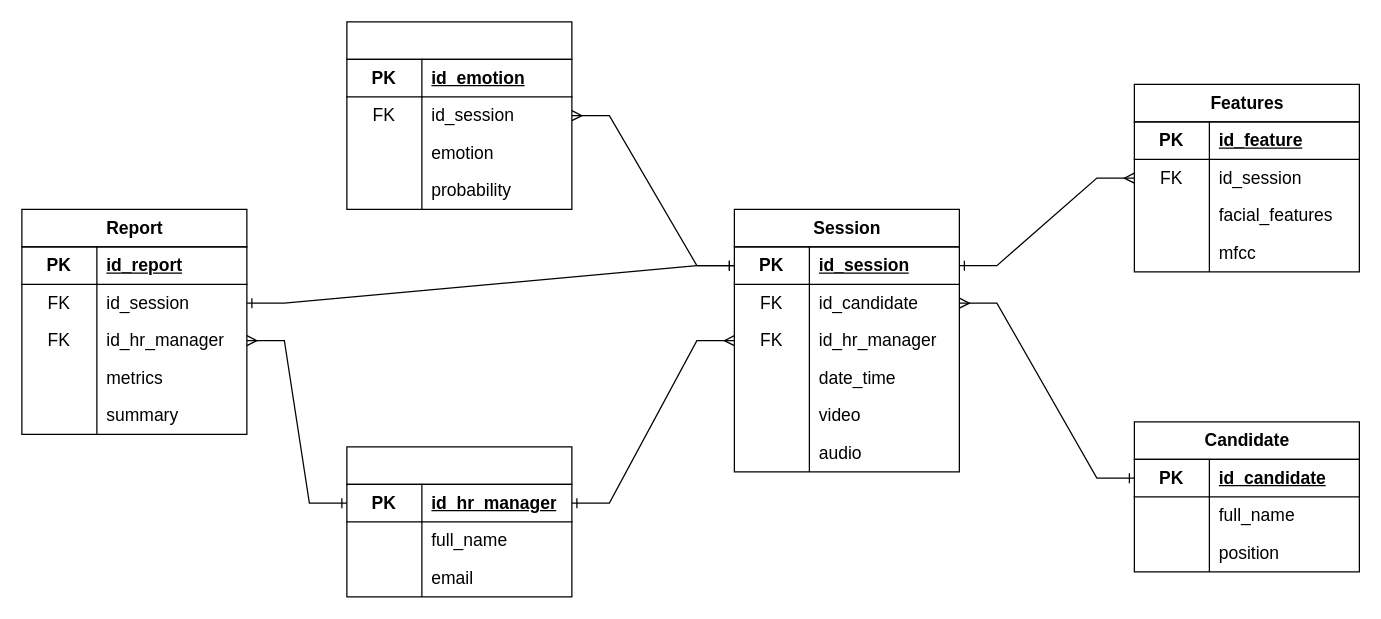
This 1381x619 diagram has some shape labels left out. Each missing label, with the box of its shape:
Emotions: (346, 21, 572, 209)
HR-менеджер: (346, 446, 572, 597)
